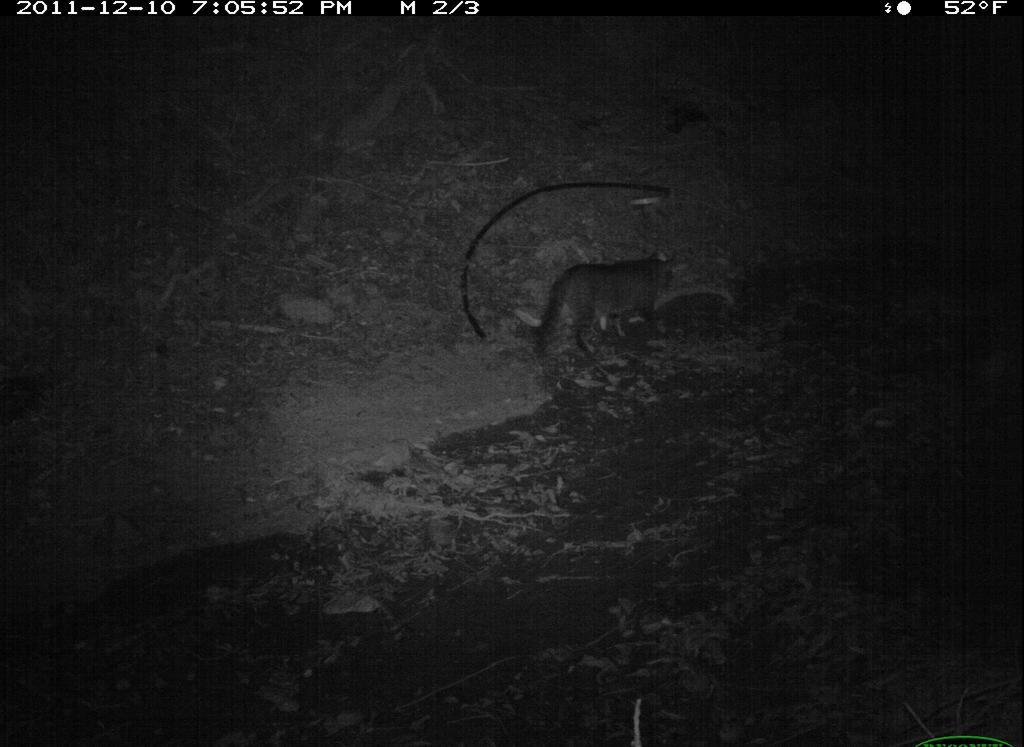cat: (519, 244, 683, 365)
